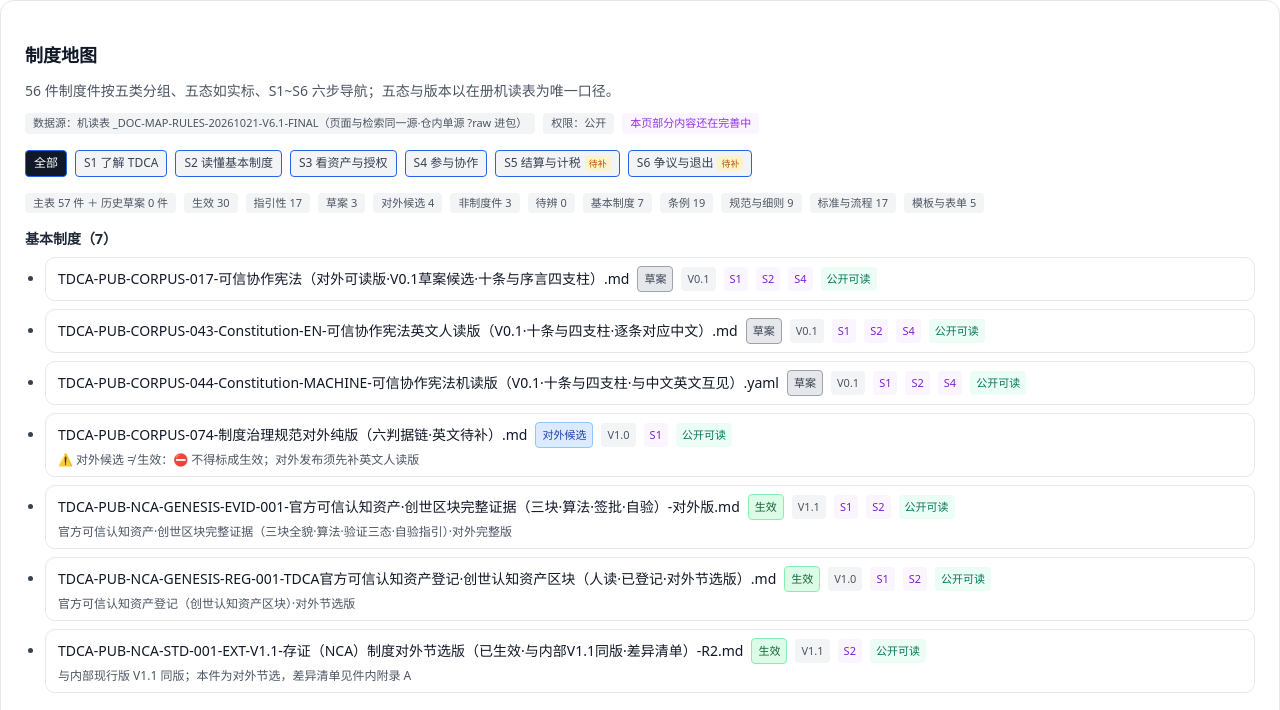
it: A-10 / M-1 / M-2 / M-4 兜底与 MINOR › M-1：/rules 相邻件文案与算法同口径（S4／S6 字样已去）
Click the button "S5 结算与计税": [558, 163] box top-left (495, 150), bottom-right (620, 176)
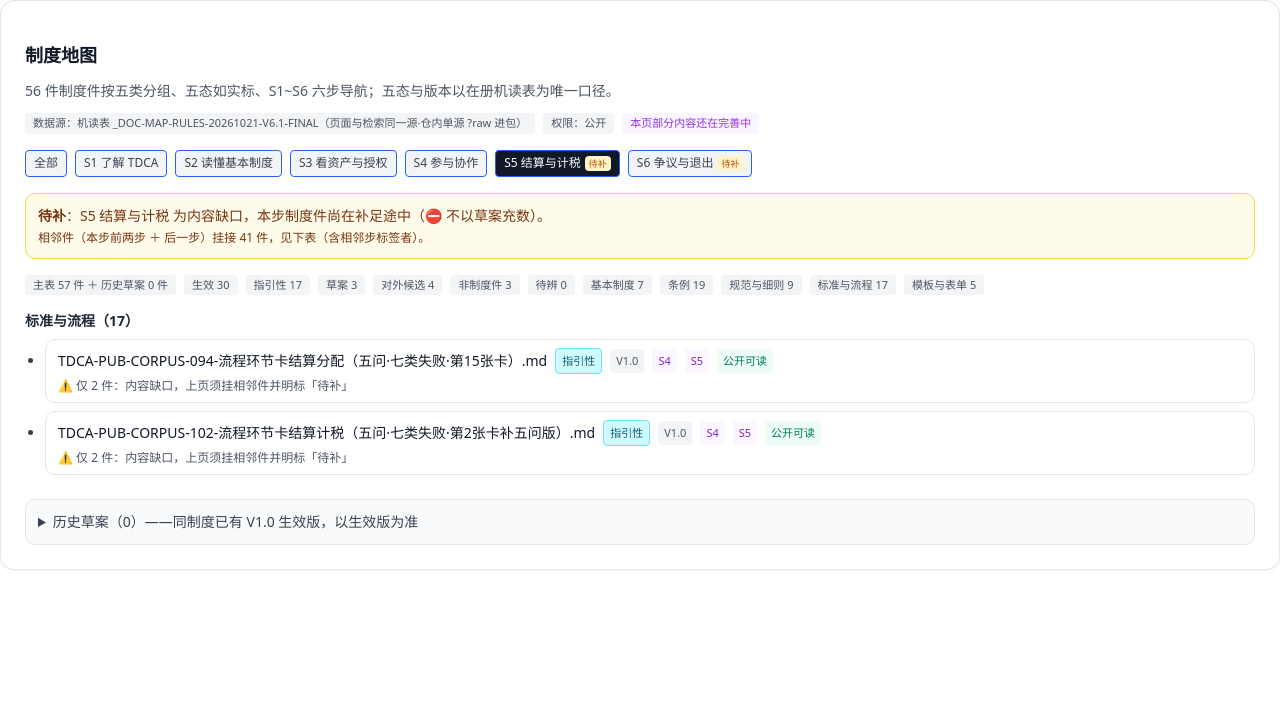
Expected: the element with test id "gap-banner" shows "相邻件（本步前两步 ＋ 后一步）挂接", top-left (38, 228), bottom-right (239, 246)
